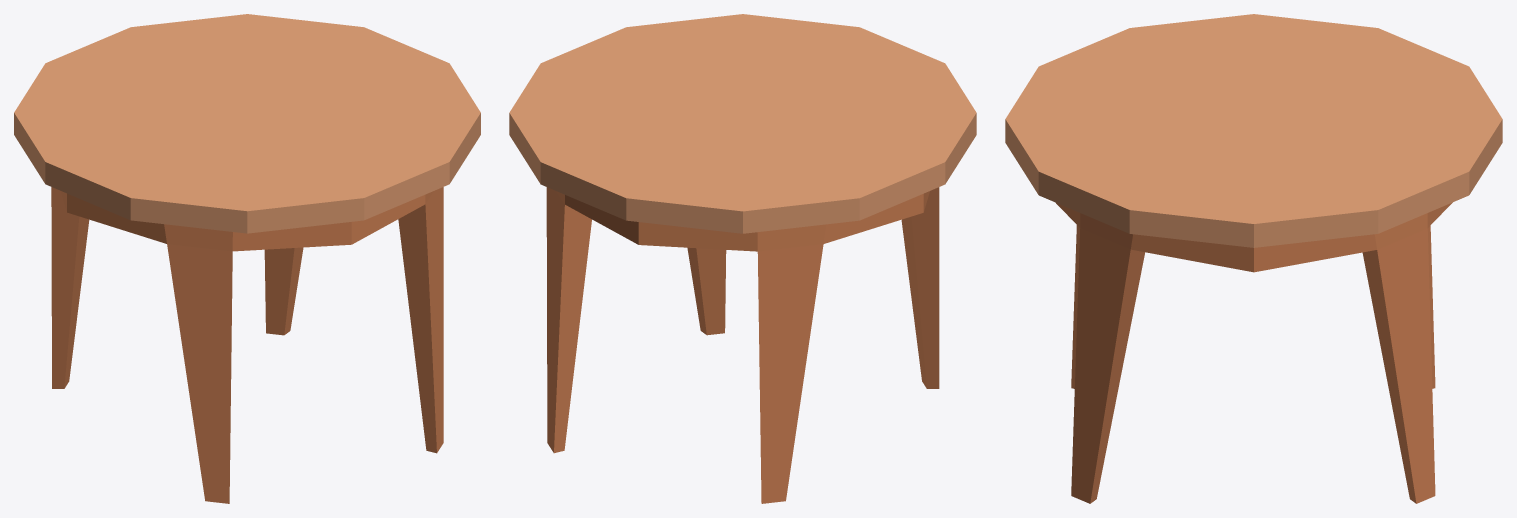
File: Table2.fbx
3 views of the same model, side by side, from view 1: azimuth 30°, elevation 25°; view 2: azimuth 150°, elevation 25°; view 3: azimuth 270°, elevation 25° (orthographic). The views are drawn at different scales.
Parts seen in each view (by area): view 1: Cylinder.001; view 2: Cylinder.001; view 3: Cylinder.001.
Boxes of the visible parts, x1=… form: Cylinder.001: x1=14, y1=14, x2=480, y2=503; Cylinder.001: x1=509, y1=14, x2=976, y2=503; Cylinder.001: x1=1005, y1=14, x2=1502, y2=503.
Bounding box in the file's own units: 3403 × 2439 × 3403.
